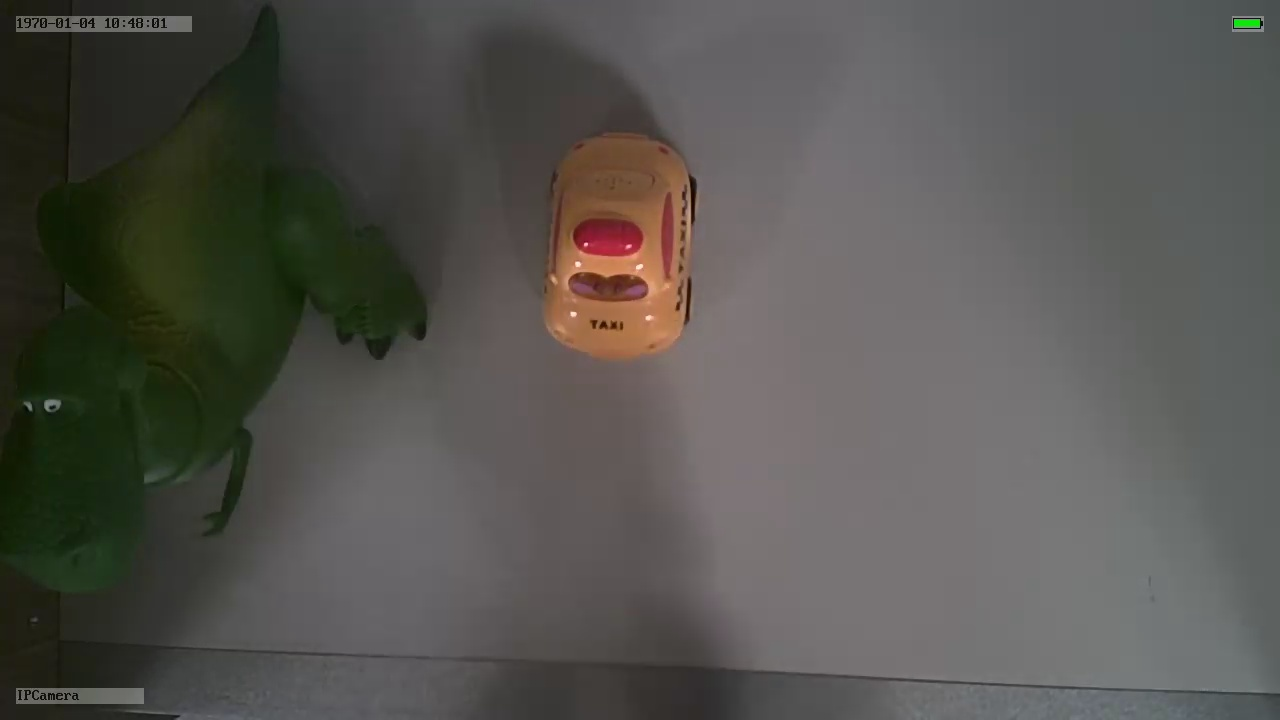car: (537, 127, 699, 363)
